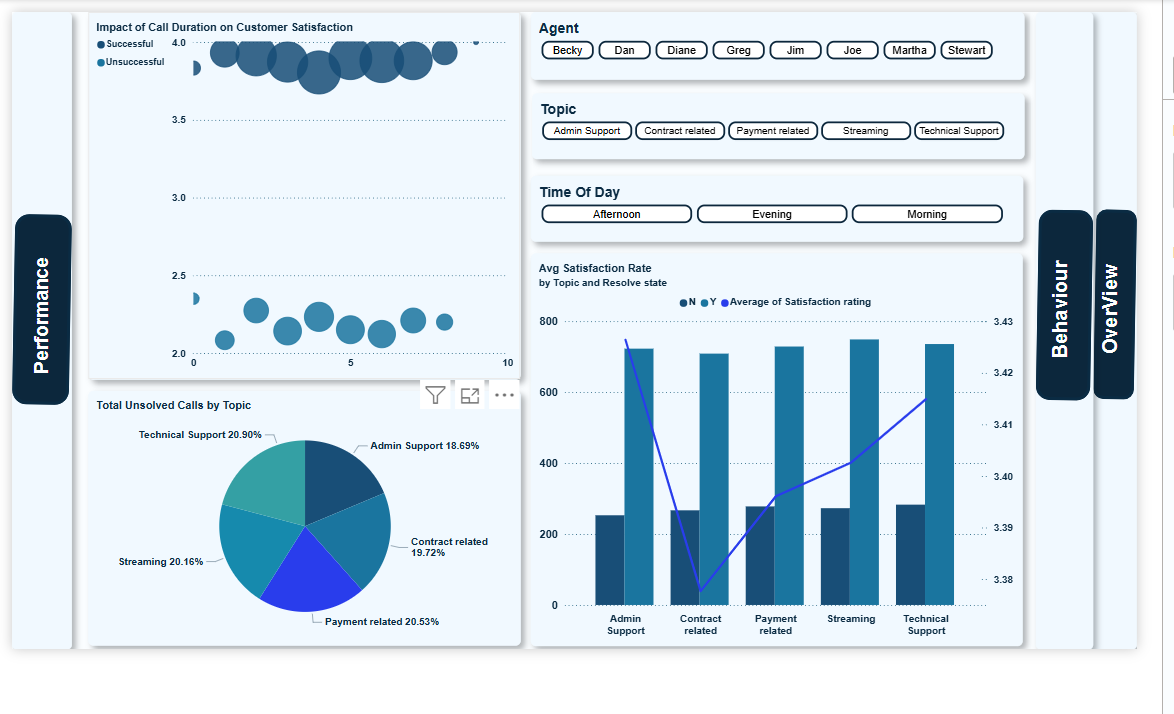

This screenshot's page, from the dashboard's own definition file:
{"tool":"powerbi","page":{"name":"Customer Behaviour","canvas":[1500,850],"ordinal":1},"visuals":[{"type":"shape","box":[1403.3,0,96.7,850],"z":0},{"type":"actionButton","title":"Overview","box":[1441.7,241.7,58.3,296.7],"z":1000},{"type":"shape","box":[1365,0,76.7,850],"z":2000},{"type":"actionButton","title":"Overview","box":[1365,248.3,76.7,285],"z":3000},{"type":"shape","box":[0,0,80,850],"z":4000},{"type":"actionButton","title":"Overview","box":[0,255,80,283.3],"z":5000},{"type":"ChicletSlicer1448559807354","title":"Agent","fields":{"Category":["Sheet1.Agent"]},"box":[691.7,0,658.3,90],"z":6000},{"type":"ChicletSlicer1448559807354","title":"Topic","fields":{"Category":["Sheet1.Topic"]},"box":[693.3,108.3,656.7,88.3],"z":7000},{"type":"ChicletSlicer1448559807354","title":"Time Of Day","fields":{"Category":["Sheet1.TimeOfDay"]},"box":[691.7,218.3,656.7,88.3],"z":8000},{"type":"pieChart","title":"Total Unsolved Calls by Topic","fields":{"Category":["Sheet1.Topic"],"Y":["Sheet1.Call Id"]},"box":[101.7,505,576.7,340],"z":9000},{"type":"lineClusteredColumnComboChart","title":"Avg Satisfaction Rate","fields":{"Category":["Sheet1.Topic"],"Y":["Sheet1.Resolved"],"Series":["Sheet1.Resolved"],"Y2":["Sheet1.Satisfaction rating"]},"box":[692,322,656,524],"z":10000},{"type":"scatterChart","title":"Impact of Call Duration on Customer Satisfaction","fields":{"X":["Sheet1.CallDuration"],"Y":["Sheet1.Satisfaction rating"],"Series":["Sheet1.Success"],"Size":["Sheet1.Resolved"]},"box":[101.7,0,576.7,490],"z":11000}]}

Visuals, with their boxes on the page's 1500x850 design canvas (x1, y1, x2, y2). These are canvas units, not pixel positions in the 1174x714 screenshot, which may show the page scaled, cropped or inside an application window:
shape: bbox(1403, 0, 1500, 850)
"Overview" actionButton: bbox(1442, 242, 1500, 538)
shape: bbox(1365, 0, 1442, 850)
"Overview" actionButton: bbox(1365, 248, 1442, 533)
shape: bbox(0, 0, 80, 850)
"Overview" actionButton: bbox(0, 255, 80, 538)
"Agent" ChicletSlicer1448559807354: bbox(692, 0, 1350, 90)
"Topic" ChicletSlicer1448559807354: bbox(693, 108, 1350, 197)
"Time Of Day" ChicletSlicer1448559807354: bbox(692, 218, 1348, 307)
"Total Unsolved Calls by Topic" pieChart: bbox(102, 505, 678, 845)
"Avg Satisfaction Rate" lineClusteredColumnComboChart: bbox(692, 322, 1348, 846)
"Impact of Call Duration on Customer Satisfaction" scatterChart: bbox(102, 0, 678, 490)
